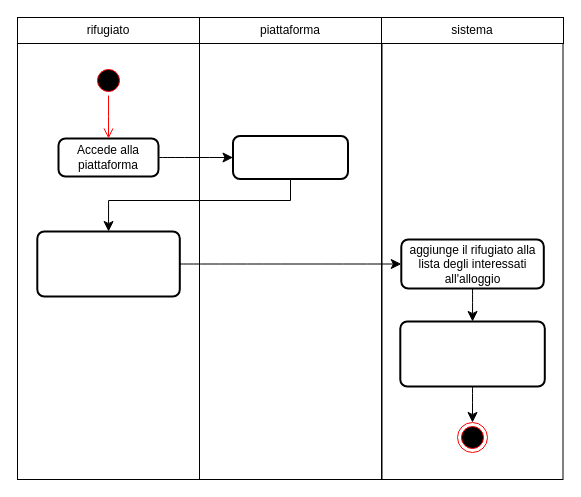
Some shapes in this 581 by 497 pixel diagram are drawn without their labels. Each missing label, with the box of its shape:
manifesta interesse per un alloggio: (36, 230, 180, 297)
notifica via email il volontario possessore dell'annuncio relativo all'alloggio: (399, 320, 545, 387)
visualizza annunci alloggio: (232, 134, 348, 180)
